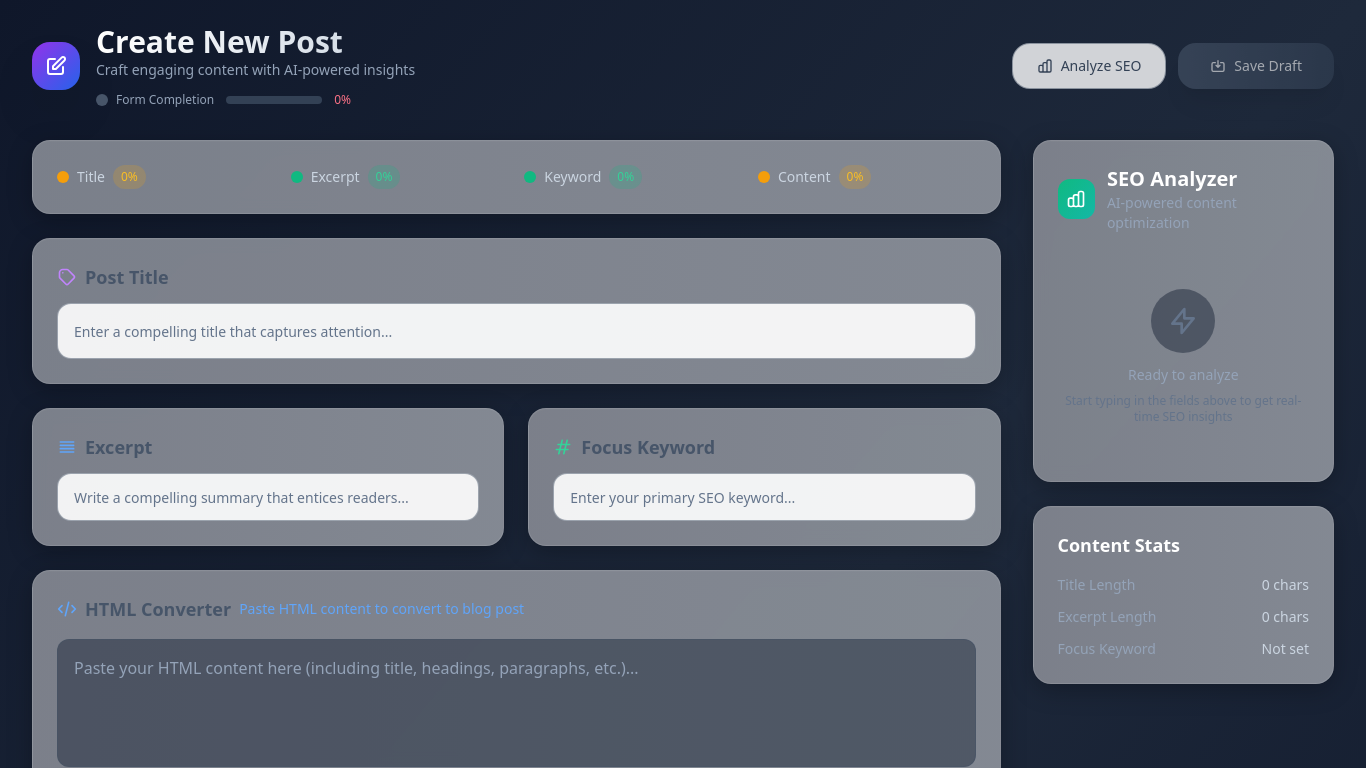
it: Editor - HTML Converter Feature › handles HTML content with nested tags in h1
Replace the text in the text box with placeholder "Paste your HTML content here" with "       <h1><strong>Bold Title</strong> with <em>emphasis</em></h1>       <p>Content here.</p>     " at point(516, 703), box [57,639,976,767]
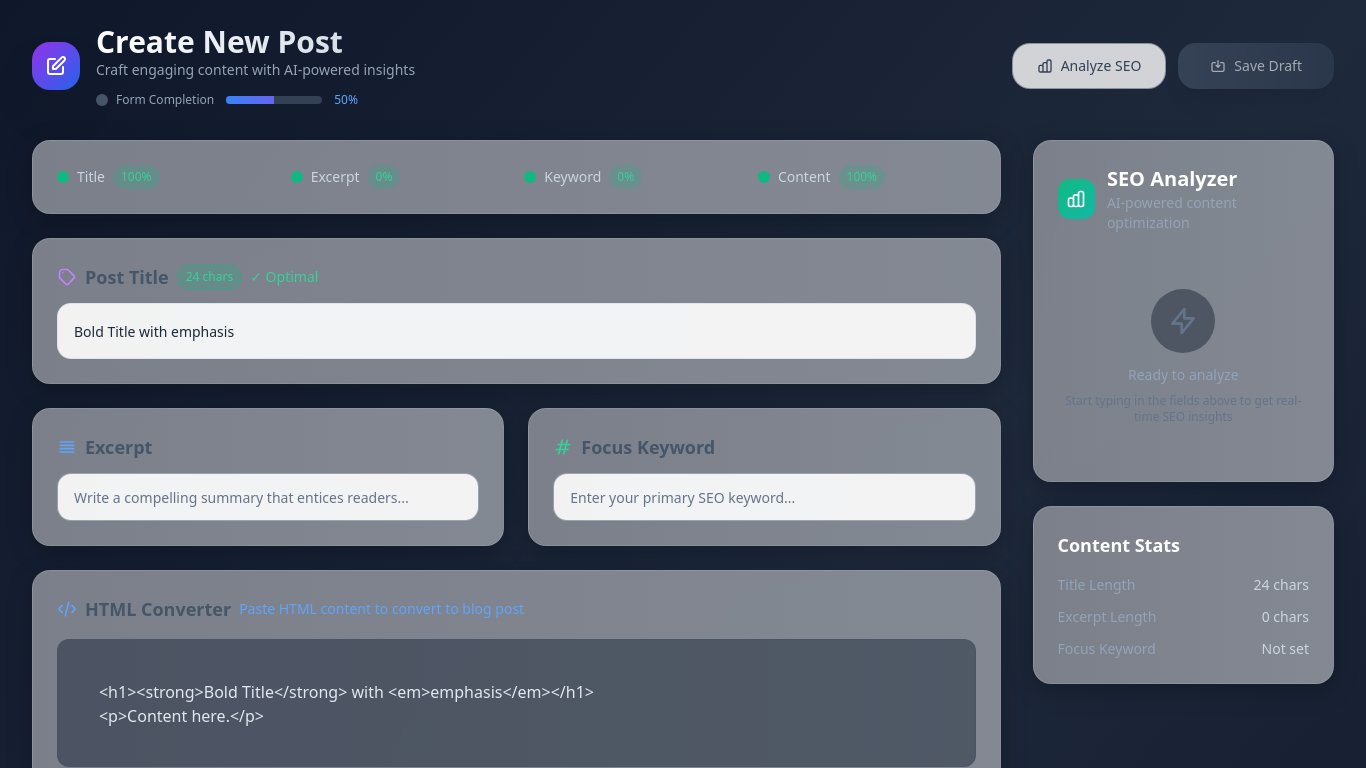
Expected: the field showing "Bold Title with emphasis" is shown, [57,303,976,359]
